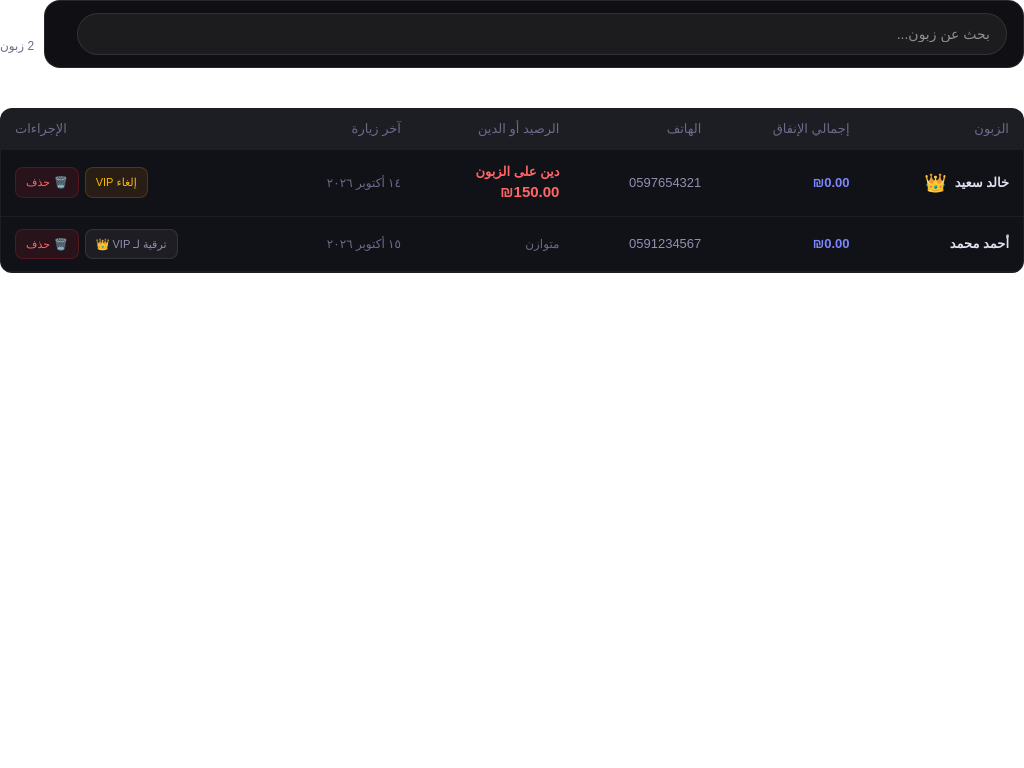
Test: CustomersTab Component › deletes customer when confirmWord is typed and confirmed
This screenshot has width=1024, height=768.
Expected: the text "خالد سعيد" is shown, [955,175,1009,190]
# Khaled is index 0
Step 1. Click the button "🗑️ حذف" in the row of "خالد سعيد" → (47, 183), box [15,167,79,198]
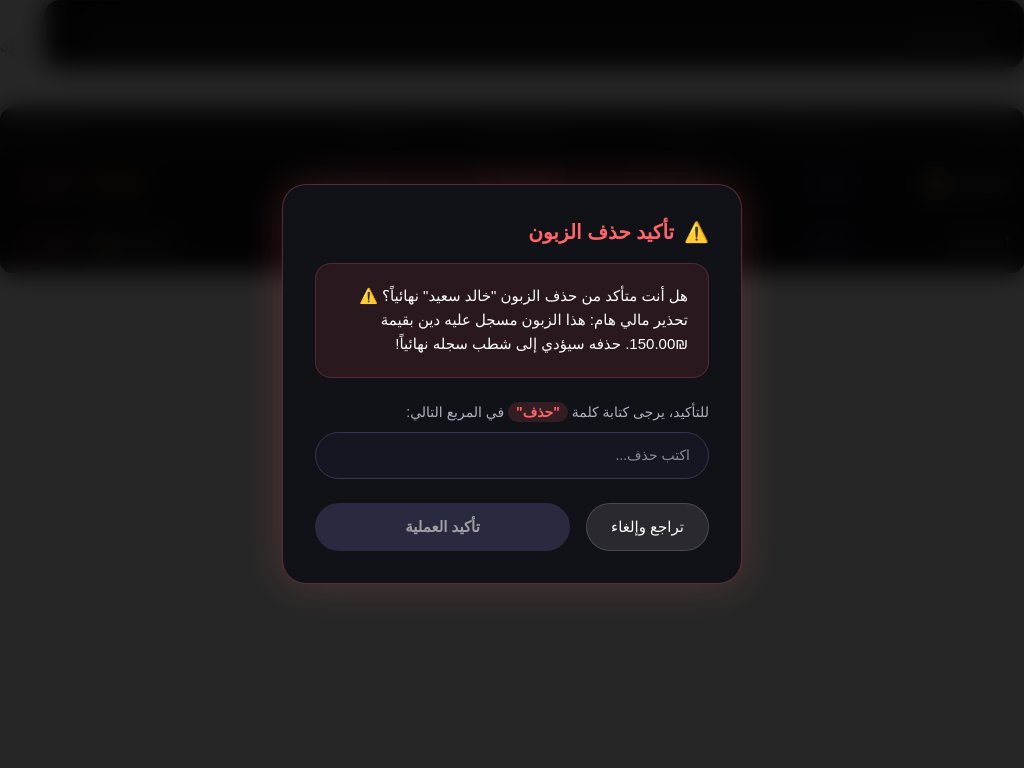
Step 2. Type "حذف" into the field with placeholder "اكتب حذف..." → (512, 455), box [315,432,709,479]
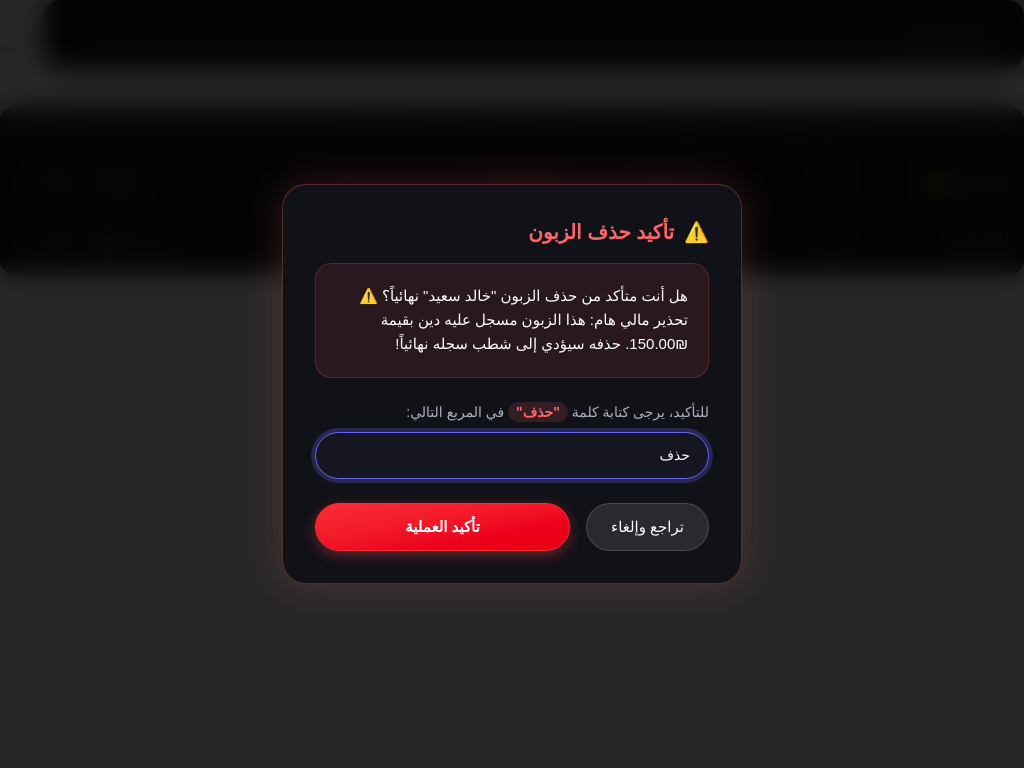
Expected: the button "تأكيد العملية" is enabled
Step 3. Click the button "تأكيد العملية" → (443, 527), box [315,503,570,551]
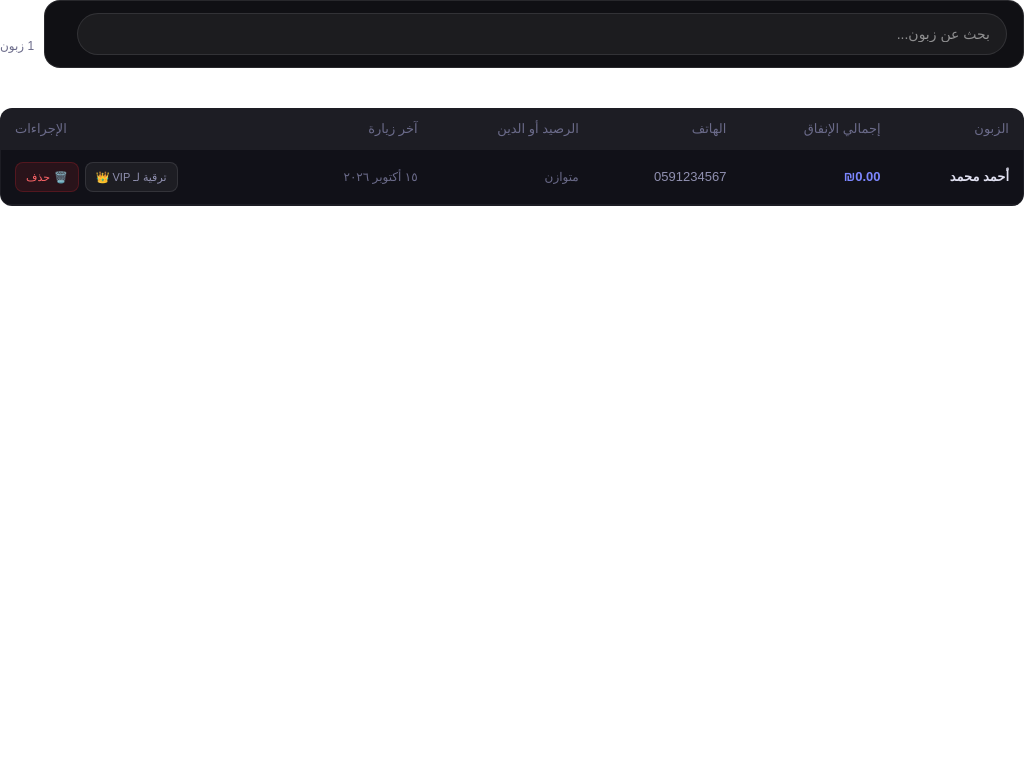
Expected: the text "خالد سعيد" is gone
